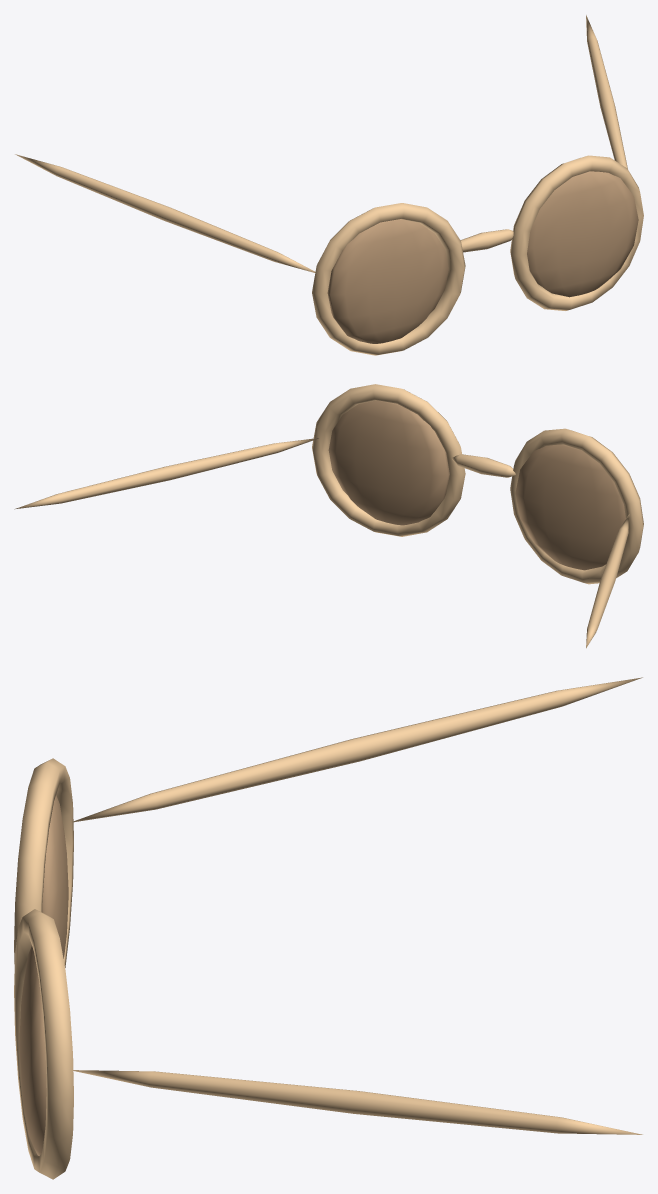
File: sunglasses-round.glb
3 views of the same model, one above another, from view 1: azimuth 30°, elevation 25°; view 2: azimuth 150°, elevation 25°; view 3: azimuth 270°, elevation 25° (orthographic). The views are drawn at different scales.
Visible parts, largest first — view 1: sunglasses-round; view 2: sunglasses-round; view 3: sunglasses-round.
Boxes of the visible parts, x1,y1,x2,y2 form: sunglasses-round: [15, 15, 643, 355]; sunglasses-round: [14, 384, 643, 648]; sunglasses-round: [14, 677, 642, 1179].
Size of the model in its own units: 0.4706 by 0.1166 by 0.2738.
